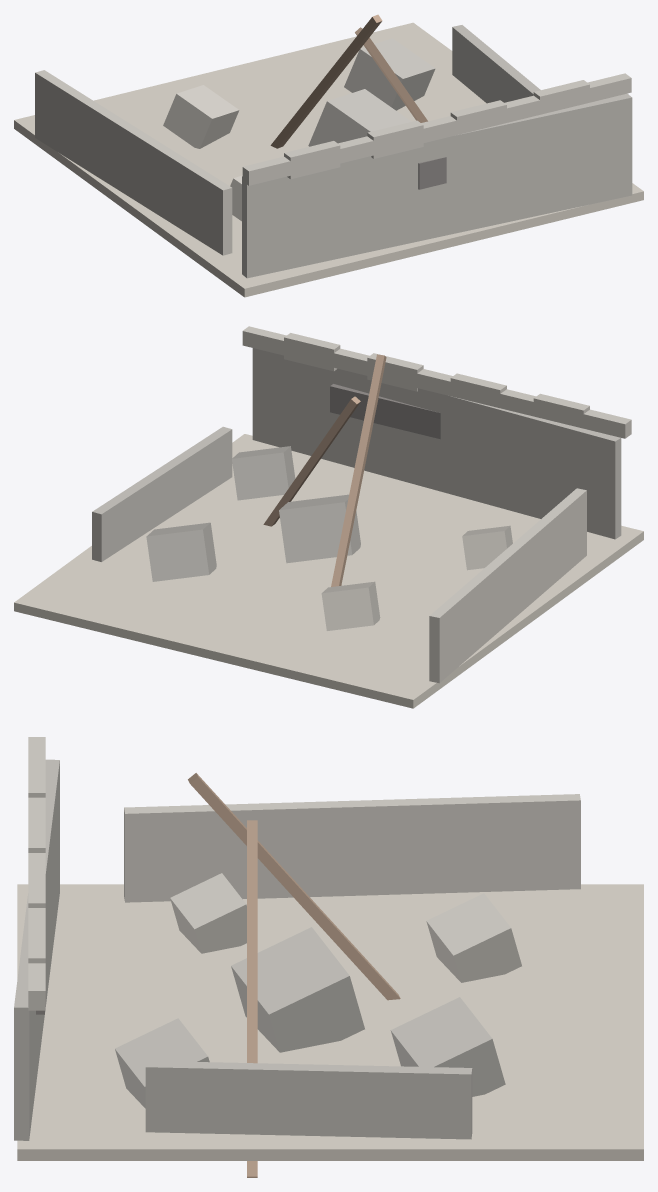
Rendered from building_burnt_3.glb.
3 renders of one model, top to bottom at view 1: azimuth 30°, elevation 25°; view 2: azimuth 150°, elevation 25°; view 3: azimuth 270°, elevation 25°, orthographic. The views are drawn at different scales.
Visible parts, largest first — view 1: building_burnt_3; view 2: building_burnt_3; view 3: building_burnt_3.
Boxes of the visible parts, <box> form: building_burnt_3: <box>14,14,643,297</box>; building_burnt_3: <box>14,326,643,708</box>; building_burnt_3: <box>14,737,643,1177</box>.
Bounding box in the file's own units: 2.9 × 1.69 × 2.9.
